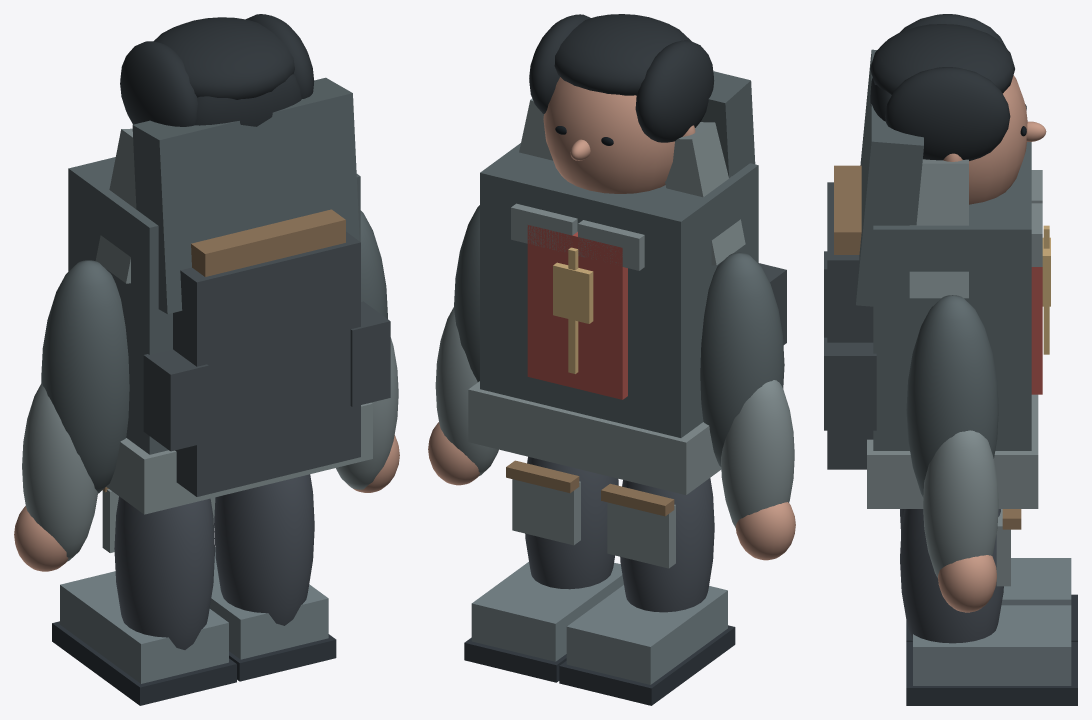
File: original_player_visual_v1.glb
The picture shows the model from 3 angles, left to right: view 1: azimuth 30°, elevation 25°; view 2: azimuth 150°, elevation 25°; view 3: azimuth 270°, elevation 25°; orthographic projection. The views are drawn at different scales.
Visible parts, largest first — view 1: AdvancedBackpack, AdvancedHoodBack, AdvancedUpperArmL, AdvancedLegL, AdvancedLegR, AdvancedBody, AdvancedShoeL, AdvancedHairTop, AdvancedForearmL, AdvancedSidePocketL, AdvancedJacketHem, AdvancedBackpackFlap (+13 smaller); view 2: AdvancedBody, AdvancedJacketHem, AdvancedShirtFront, AdvancedUpperArmL, AdvancedShoeL, AdvancedHead, AdvancedShoeR, AdvancedForearmL, AdvancedHairTop, AdvancedLegL, AdvancedLegR, AdvancedHairLeft (+19 smaller); view 3: AdvancedBody, AdvancedUpperArmR, AdvancedShoeR, AdvancedHairRight, AdvancedForearmR, AdvancedHoodBack, AdvancedHairTop, AdvancedLegR, AdvancedJacketHem, AdvancedBackpack, AdvancedHoodRight, AdvancedSidePocketR (+15 smaller).
Part boxes in pixels (x1,y1,x2,y2): AdvancedBackpack: [173, 231, 360, 496]; AdvancedHoodBack: [132, 77, 359, 314]; AdvancedUpperArmL: [41, 260, 129, 493]; AdvancedLegL: [114, 496, 214, 649]; AdvancedLegR: [214, 474, 314, 625]; AdvancedBody: [68, 157, 360, 454]; AdvancedShoeL: [60, 571, 228, 683]; AdvancedHairTop: [153, 17, 294, 99]; AdvancedForearmL: [22, 383, 97, 561]; AdvancedSidePocketL: [143, 349, 208, 451]; AdvancedJacketHem: [106, 402, 372, 514]; AdvancedBackpackFlap: [191, 209, 345, 276]; AdvancedBody: [480, 143, 758, 437]; AdvancedJacketHem: [468, 381, 721, 494]; AdvancedShirtFront: [527, 225, 627, 399]; AdvancedUpperArmL: [700, 252, 784, 466]; AdvancedShoeL: [566, 585, 727, 684]; AdvancedHead: [543, 77, 674, 193]; AdvancedShoeR: [471, 562, 623, 661]; AdvancedForearmL: [721, 380, 794, 528]; AdvancedHairTop: [554, 14, 691, 95]; AdvancedLegL: [620, 478, 714, 612]; AdvancedLegR: [525, 456, 618, 589]; AdvancedHairLeft: [635, 40, 714, 142]; AdvancedBody: [873, 142, 1031, 450]; AdvancedUpperArmR: [906, 295, 998, 497]; AdvancedShoeR: [913, 605, 1071, 685]; AdvancedHairRight: [885, 67, 1010, 160]; AdvancedForearmR: [923, 430, 998, 577]; AdvancedHoodBack: [855, 49, 923, 306]; AdvancedHairTop: [870, 24, 1014, 94]; AdvancedLegR: [900, 509, 1003, 643]; AdvancedJacketHem: [867, 394, 1038, 508]; AdvancedBackpack: [827, 182, 873, 469]; AdvancedHoodRight: [909, 159, 968, 298]; AdvancedSidePocketR: [824, 337, 876, 430].
Size of the model in its own units: 1.29 by 2.09 by 0.77.
